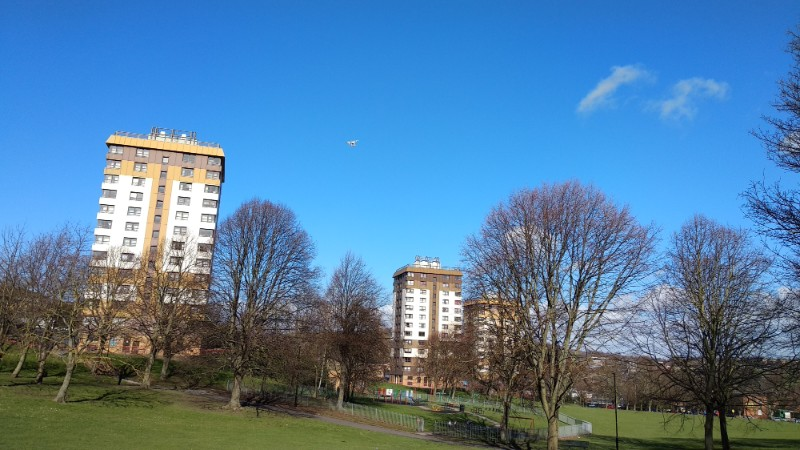drone: (346, 138, 358, 148)
